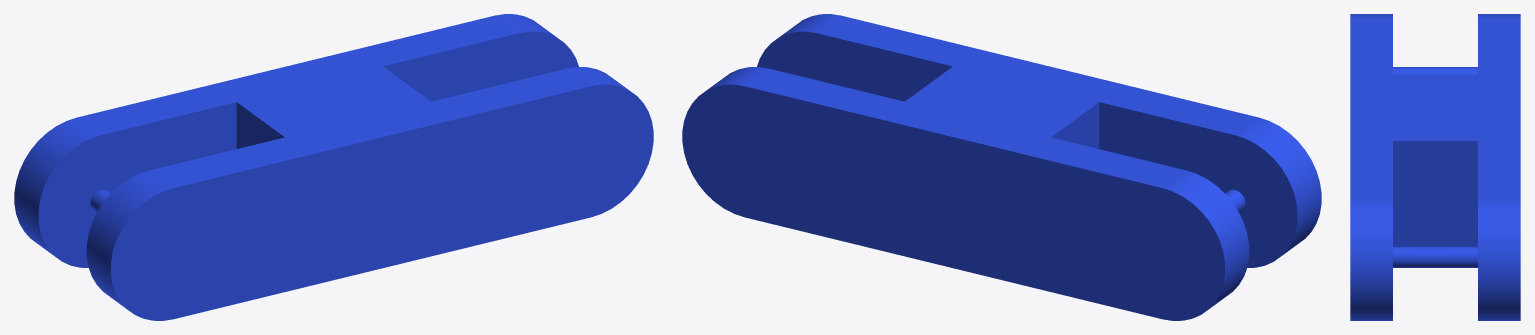
The picture shows the model from 3 angles, left to right: view 1: azimuth 30°, elevation 25°; view 2: azimuth 150°, elevation 25°; view 3: azimuth 270°, elevation 25°; orthographic projection. The views are drawn at different scales.
Parts seen in each view (by area): view 1: color; view 2: color; view 3: color.
Boxes of the visible parts, <box> form: color: <box>14,14,653,320</box>; color: <box>682,14,1321,320</box>; color: <box>1350,14,1520,320</box>.
Bounding box in the file's own units: 32.99 × 7.62 × 10.16.
